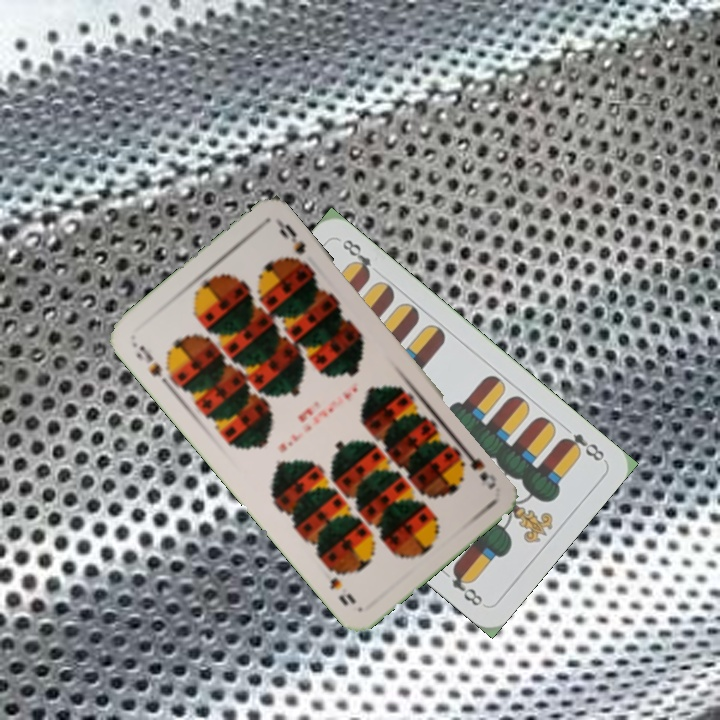E8: (556, 429, 607, 464)
S9: (128, 338, 171, 387), (453, 441, 491, 484)
